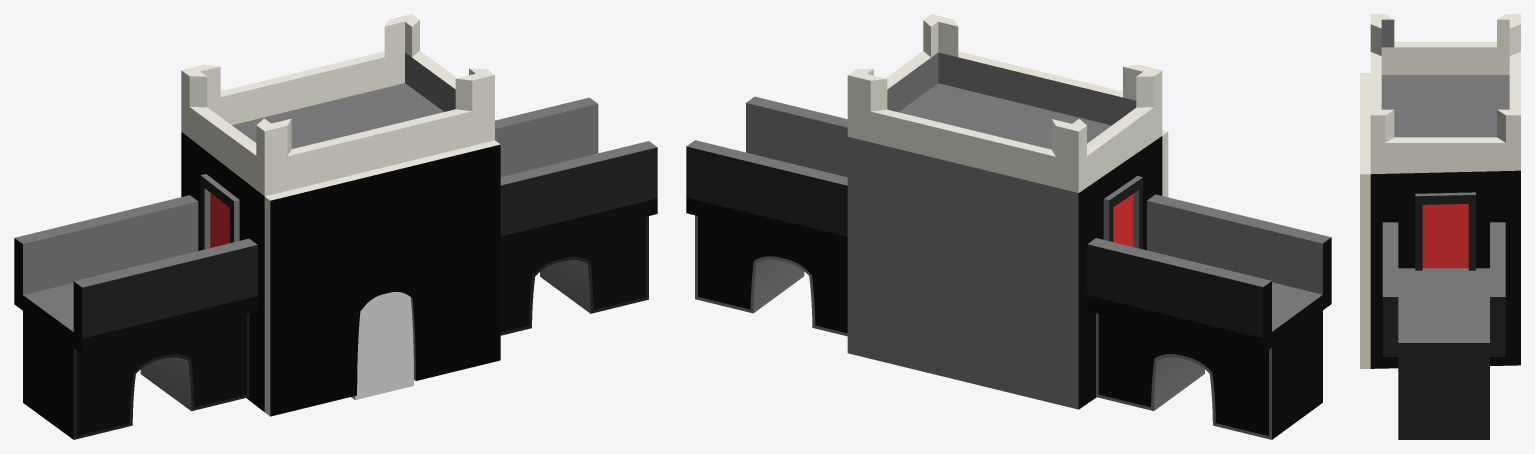
File: Jail.fbx
3 renders of one model, left to right at view 1: azimuth 30°, elevation 25°; view 2: azimuth 150°, elevation 25°; view 3: azimuth 270°, elevation 25°, orthographic. The views are drawn at different scales.
Visible parts, largest first — view 1: Box005, Box004, Box006, Jail; view 2: Box005, Box004, Box006; view 3: Box005, Box006.
Boxes of the visible parts, x1=… form: Box005: x1=181, y1=14, x2=500, y2=416; Box004: x1=14, y1=195, x2=257, y2=439; Box006: x1=495, y1=97, x2=657, y2=335; Jail: x1=351, y1=292, x2=413, y2=400; Box005: x1=847, y1=14, x2=1168, y2=409; Box004: x1=1087, y1=194, x2=1331, y2=439; Box006: x1=686, y1=96, x2=847, y2=336; Box005: x1=1360, y1=14, x2=1520, y2=368; Box006: x1=1382, y1=222, x2=1505, y2=439.
Size of the model in its own units: 196 by 93.68 by 52.7.
